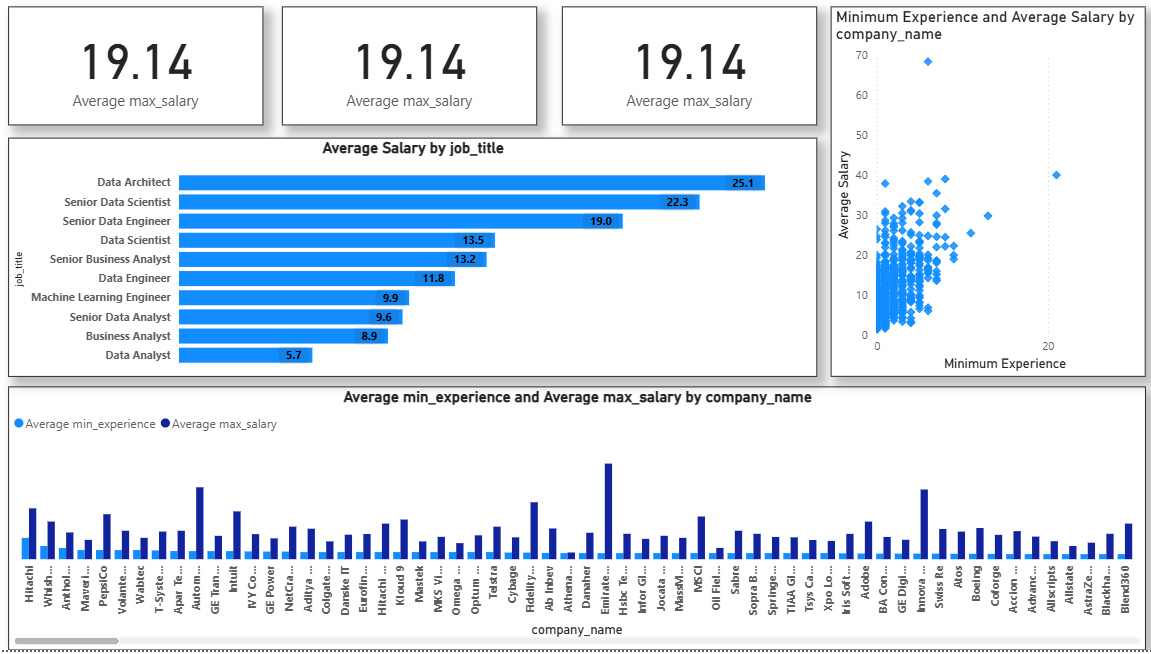

This screenshot's page, from the dashboard's own definition file:
{"tool":"powerbi","page":{"name":"Salary Insights","canvas":[1280,720],"ordinal":1},"visuals":[{"type":"card","fields":{"Values":["Measure Table.Average max_salary"]},"box":[17.8,13.7,279.9,130.4],"z":0},{"type":"card","fields":{"Values":["Measure Table.Average max_salary"]},"box":[625.7,13.7,279.9,130.4],"z":1000},{"type":"card","fields":{"Values":["Measure Table.Average max_salary"]},"box":[318.4,13.7,279.9,130.4],"z":2000},{"type":"clusteredColumnChart","fields":{"Category":["Data.company_name"],"Y":["Measure Table.Average min_experience","Measure Table.Average max_salary"]},"box":[17.8,430.9,1248.7,289.5],"z":3000},{"type":"clusteredBarChart","fields":{"Category":["Data.job_title"],"Y":["Measure Table.Average Salary"]},"box":[17.8,157.8,887.8,262.1],"z":4000},{"type":"scatterChart","fields":{"X":["Measure Table.Minimum Experience"],"Y":["Measure Table.Average Salary"],"Category":["Data.company_name"]},"box":[920.8,13.7,345.8,406.2],"z":5000}]}

Visuals, with their boxes in screenshot pixels (x1, y1, x2, y2), scaled from the page's 1280x720 canvas onto the 1151x654 screenshot:
card - Measure Table.Average max_salary: <region>16, 12, 268, 131</region>
card - Measure Table.Average max_salary: <region>563, 12, 814, 131</region>
card - Measure Table.Average max_salary: <region>286, 12, 538, 131</region>
clusteredColumnChart - Data.company_name x Measure Table.Average min_experience: <region>16, 391, 1139, 653</region>
clusteredBarChart - Data.job_title x Measure Table.Average Salary: <region>16, 143, 814, 381</region>
scatterChart - Measure Table.Minimum Experience x Measure Table.Average Salary: <region>828, 12, 1139, 381</region>
